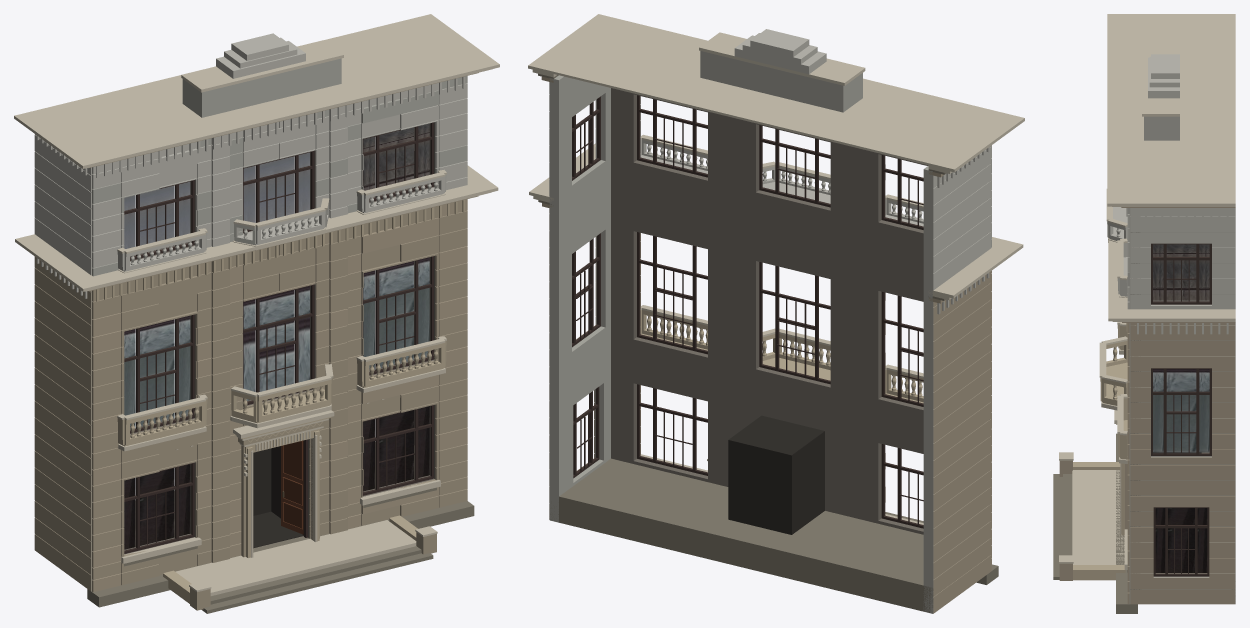
The model's file is jingan-central-reserve-bank-changshu-front-raw.glb.
3 renders of one model, left to right at view 1: azimuth 30°, elevation 25°; view 2: azimuth 150°, elevation 25°; view 3: azimuth 270°, elevation 25°, orthographic. The views are drawn at different scales.
Visible parts, largest first — view 1: 中央储备银行常熟路旧址正门与三跨石阳台; view 2: 中央储备银行常熟路旧址正门与三跨石阳台; view 3: 中央储备银行常熟路旧址正门与三跨石阳台.
Part boxes in pixels (x1,y1,x2,y2): 中央储备银行常熟路旧址正门与三跨石阳台: (14,14,499,613); 中央储备银行常熟路旧址正门与三跨石阳台: (528,14,1024,613); 中央储备银行常熟路旧址正门与三跨石阳台: (1053,14,1235,613).
Size of the model in its own units: 17.91 by 20.45 by 7.27.
18 materials, 5 textured.
